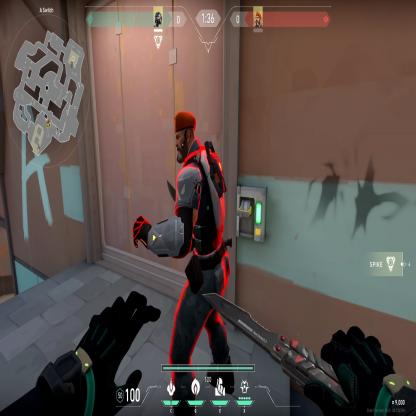enemy: (163, 103, 234, 287)
